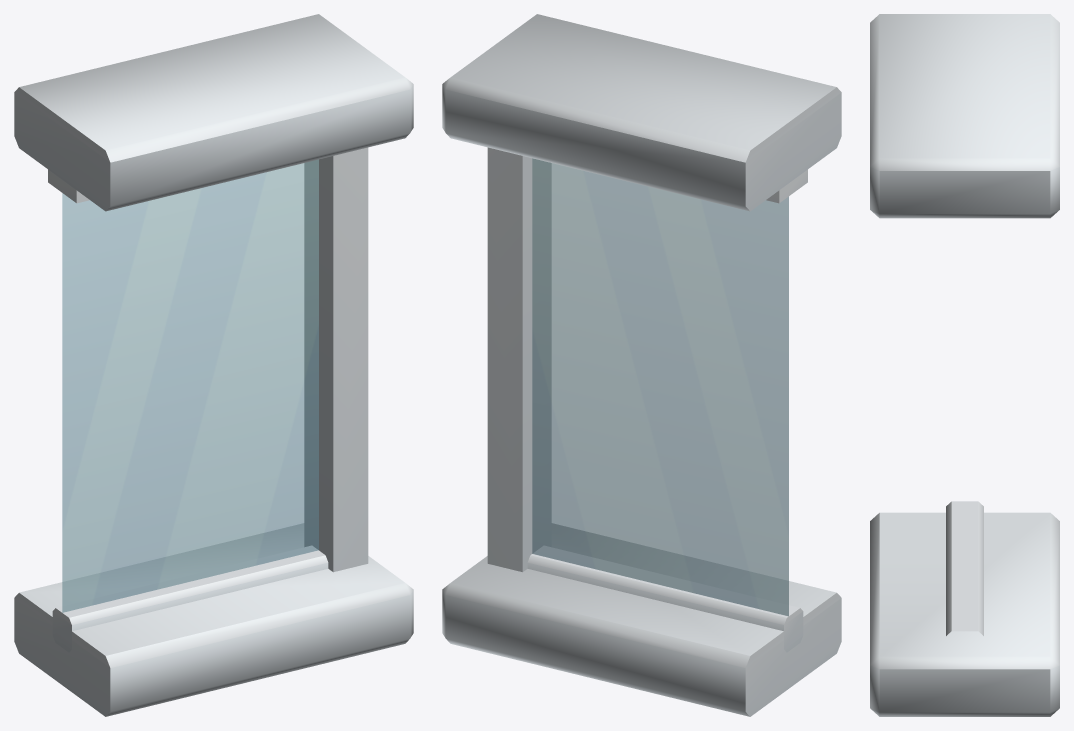
Rendered from window-full-right-modular.glb.
The picture shows the model from 3 angles, left to right: view 1: azimuth 30°, elevation 25°; view 2: azimuth 150°, elevation 25°; view 3: azimuth 270°, elevation 25°; orthographic projection.
Parts seen in each view (by area): view 1: window_full_right_modular; view 2: window_full_right_modular; view 3: window_full_right_modular.
Part boxes in pixels (x1,y1,x2,y2): window_full_right_modular: [14, 14, 413, 716]; window_full_right_modular: [442, 14, 841, 716]; window_full_right_modular: [870, 14, 1059, 716].
Size of the model in its own units: 1.85 by 3.25 by 1.
2 materials, 2 textured.
